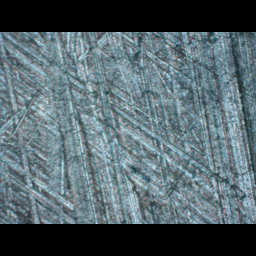d: (31, 32, 145, 223), (181, 32, 256, 224)
